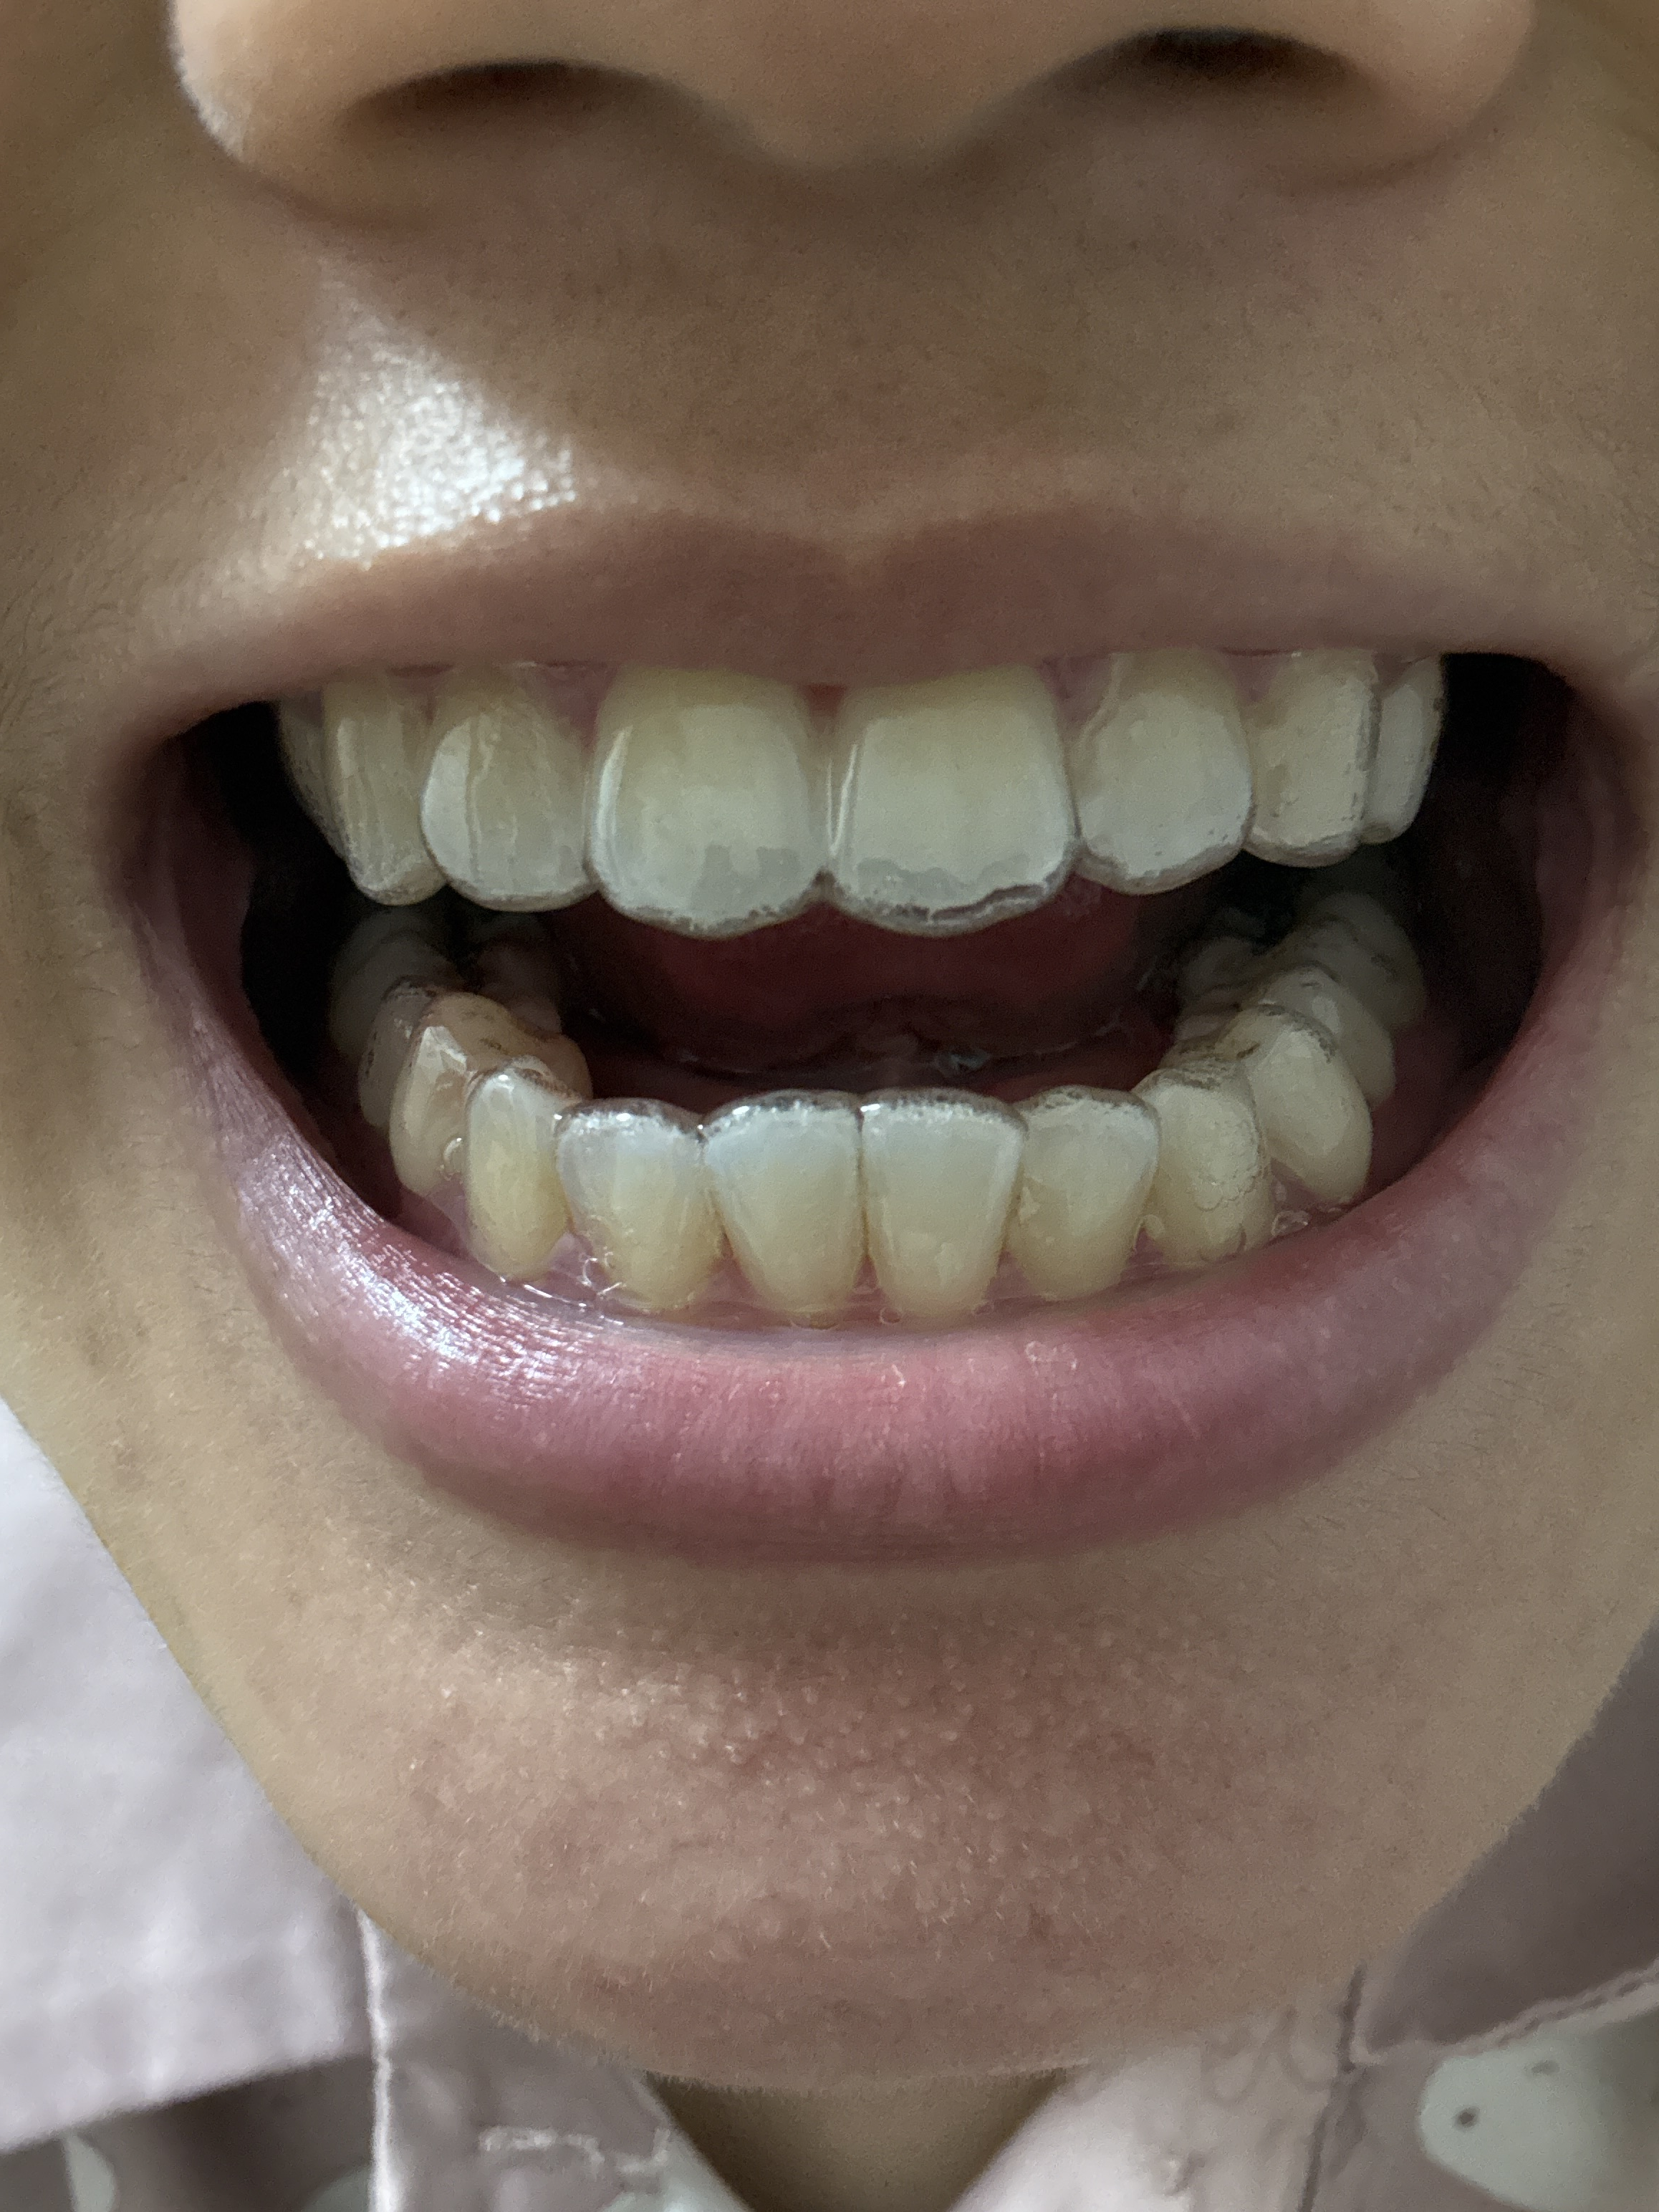teeth: (596, 660, 823, 927), (836, 657, 1073, 909), (1082, 651, 1256, 883), (425, 665, 586, 895), (385, 1005, 579, 1181), (706, 1103, 859, 1312), (868, 1109, 1016, 1324), (565, 1129, 714, 1299), (1014, 1111, 1152, 1294), (1260, 648, 1375, 866), (1248, 1019, 1373, 1193), (321, 669, 420, 888), (1150, 1080, 1269, 1254), (465, 1080, 570, 1264)
